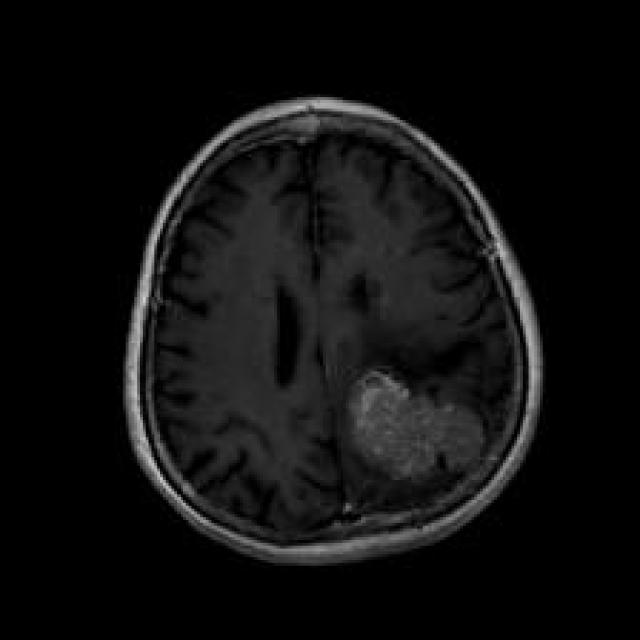meningioma_tumor: (333, 353, 498, 490)
